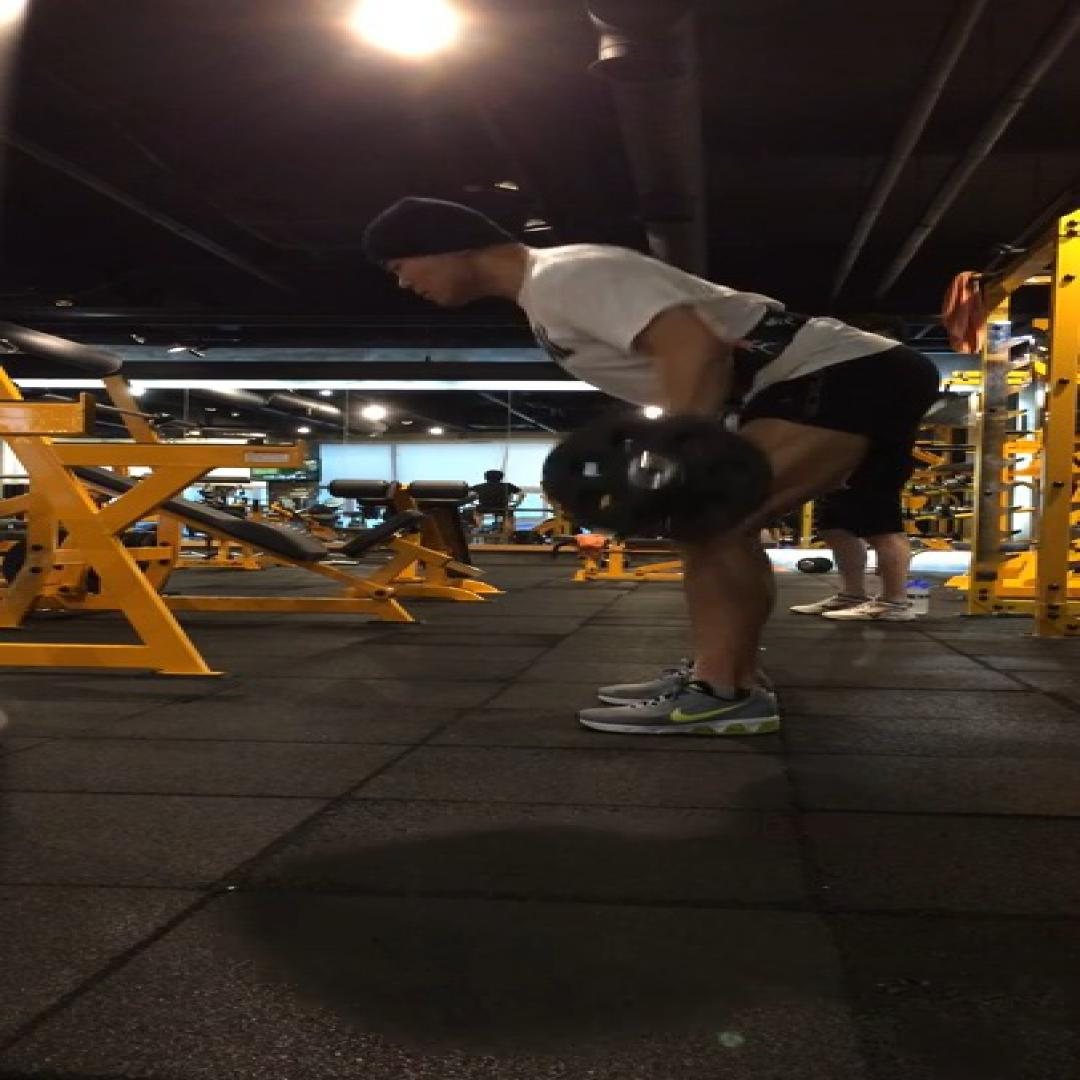Bar: (625, 453, 676, 489)
Barbell: (542, 419, 771, 537)
